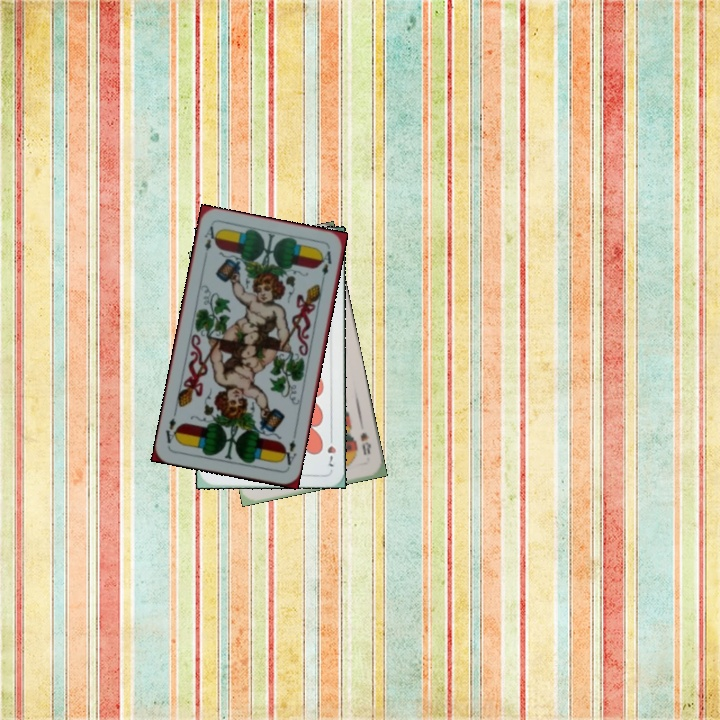EA: (278, 436, 299, 470), (200, 222, 220, 253)
H7: (323, 431, 338, 469)
S8: (356, 428, 374, 458)
